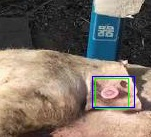text: (95, 78, 128, 108)
